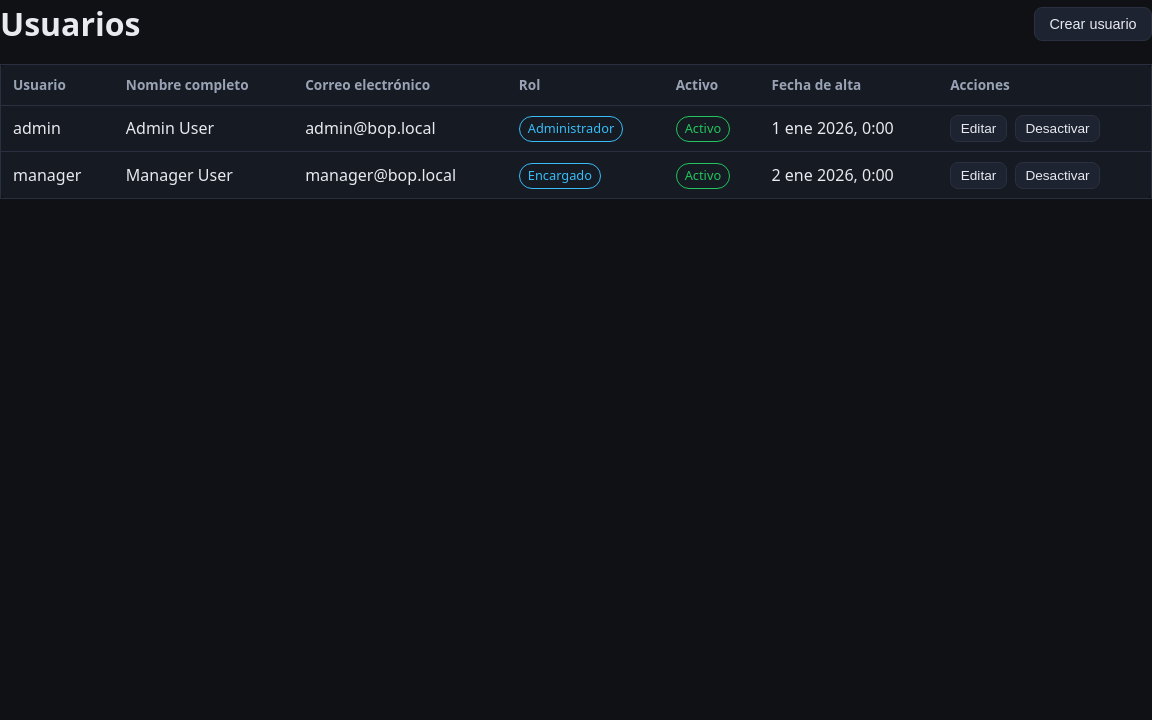
R-UI-USR-3: edit user › R-UI-USR-3: role change → PATCH {role} and the row badge updates
The image size is (1152, 720).
Expected: the table is shown, [0, 64, 1151, 199]
Expected: the row that starts with "manager" is shown, [0, 152, 1151, 199]
Click the button "Editar" in the row of "Manager User": click(978, 175) [950, 162, 1007, 189]
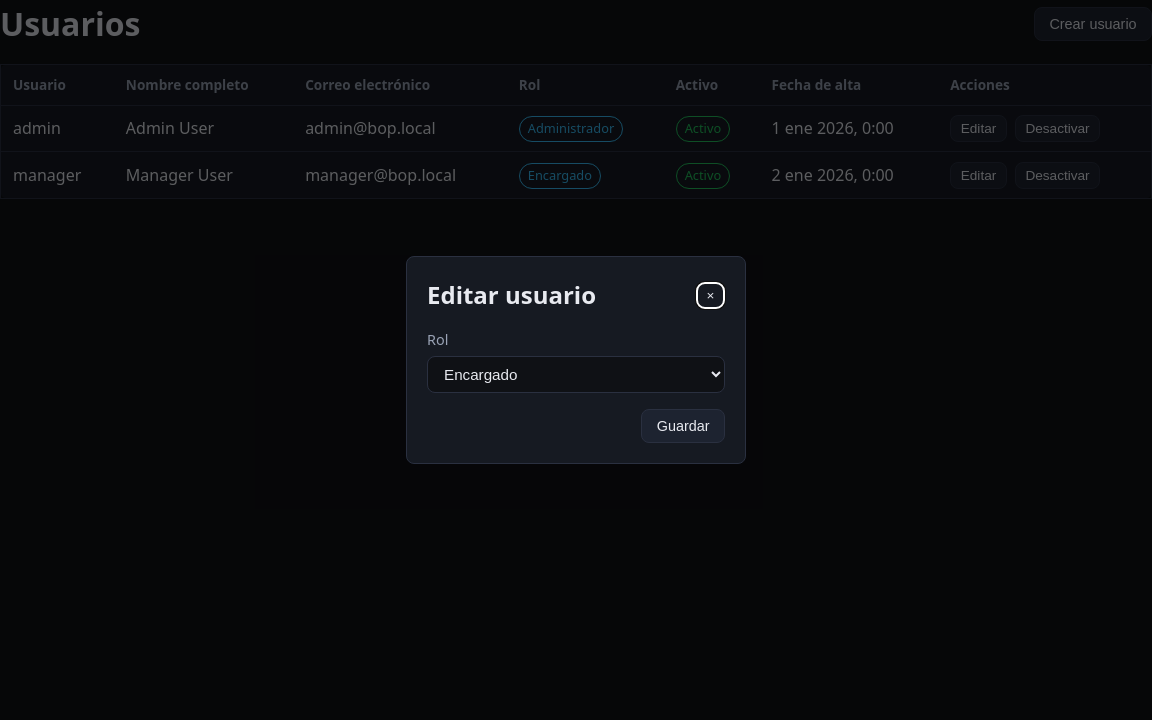
Result: the dialog is shown at [406, 256, 746, 464]
Select "Espectador" in the dropdown labelled "Rol": (576, 374) [427, 356, 725, 393]
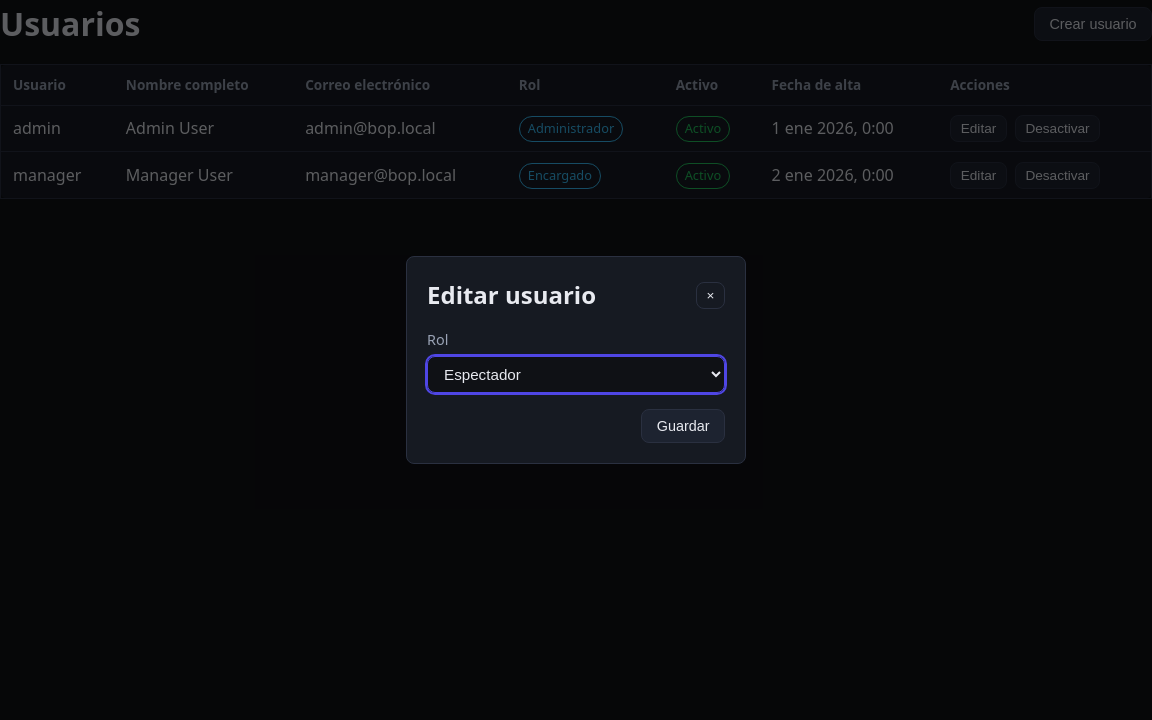
Click the button "Guardar": click(683, 426) [641, 409, 725, 443]
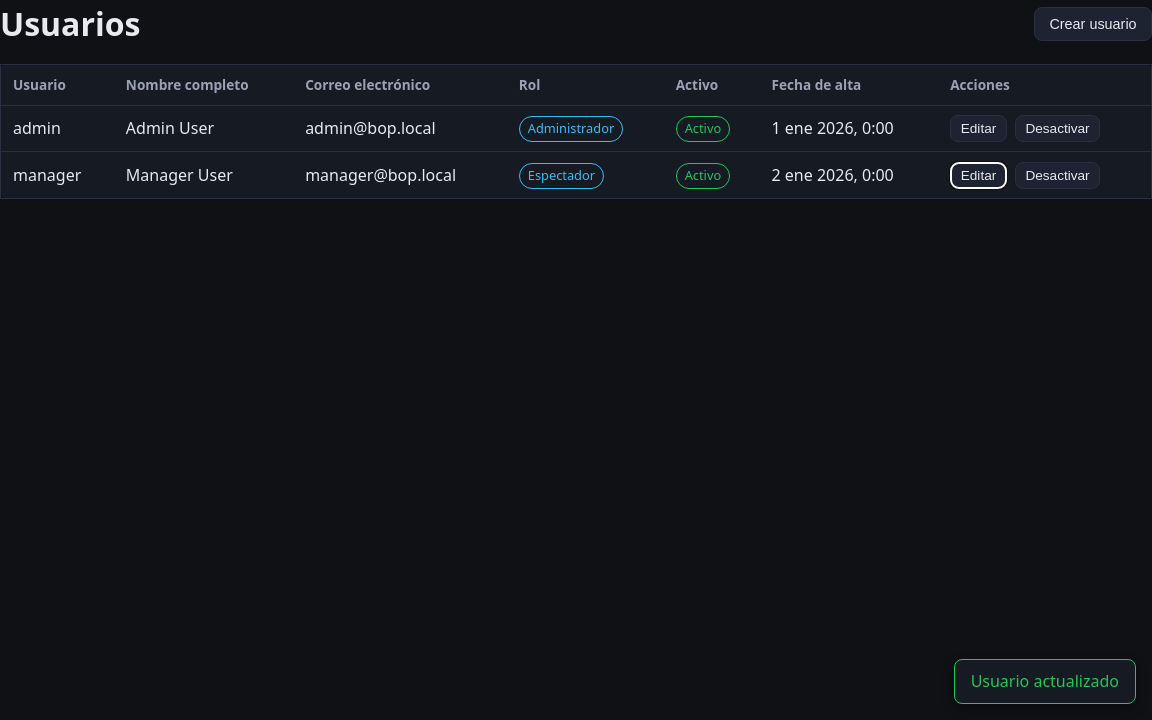
Result: the text "Espectador" is shown at [519, 163, 604, 189]
